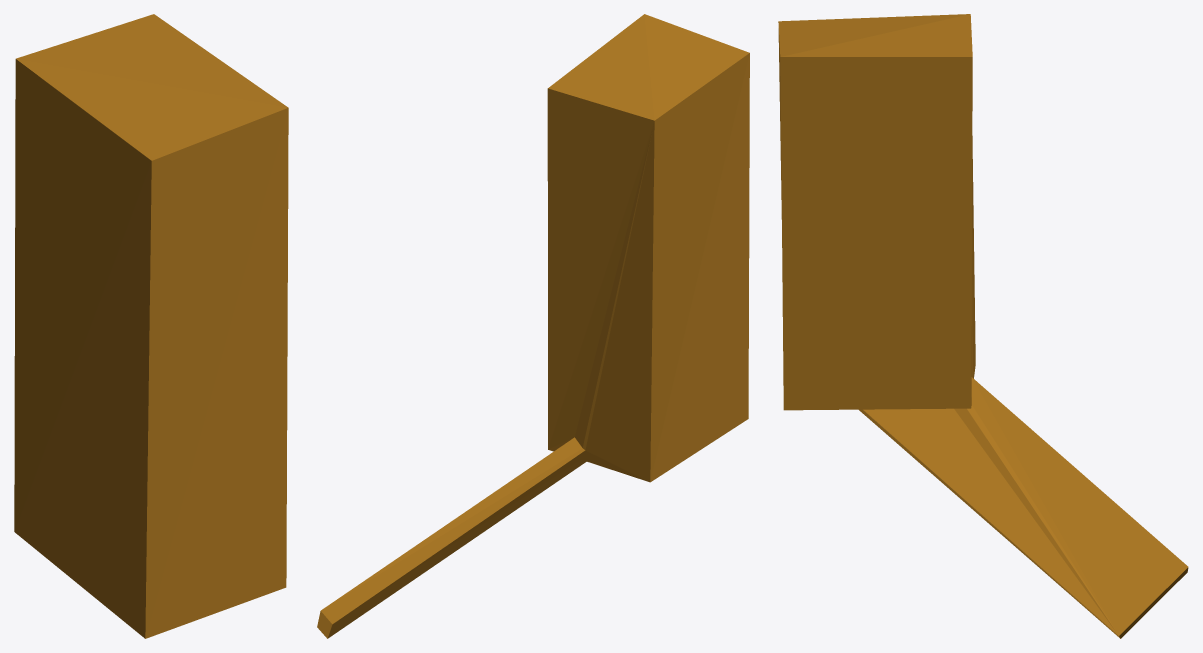
3 views of the same model, side by side, from view 1: azimuth 30°, elevation 25°; view 2: azimuth 150°, elevation 25°; view 3: azimuth 270°, elevation 25° (orthographic). The views are drawn at different scales.
Parts seen in each view (by area): view 1: 340_Cube.1388; view 2: 340_Cube.1388; view 3: 340_Cube.1388.
Part boxes in pixels (left/top/right/bottom): 340_Cube.1388: left=14, top=14, right=288, bottom=638; 340_Cube.1388: left=317, top=14, right=749, bottom=638; 340_Cube.1388: left=778, top=14, right=1188, bottom=638.
Size of the model in its own units: 8.96 by 17.41 by 12.57.
